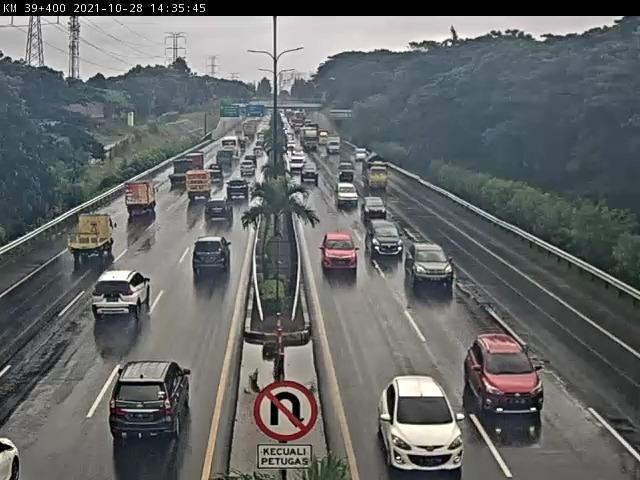car: (368, 372, 467, 479), (95, 356, 201, 448), (464, 332, 551, 427), (90, 272, 168, 324), (406, 234, 456, 293), (1, 431, 47, 480), (188, 236, 235, 280), (318, 234, 362, 277), (367, 218, 407, 265), (221, 177, 253, 206), (361, 195, 391, 225), (206, 202, 234, 228), (333, 182, 358, 209), (337, 160, 358, 183), (301, 166, 326, 184), (231, 163, 259, 179), (207, 164, 225, 183), (290, 155, 305, 172), (353, 146, 367, 162)
truck: (65, 213, 122, 266), (125, 178, 165, 217), (187, 171, 220, 203), (365, 155, 390, 191), (171, 162, 200, 186), (181, 149, 207, 171), (303, 128, 324, 154), (325, 137, 347, 157)
